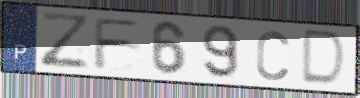6: (150, 20, 190, 76)
9: (201, 24, 241, 80)
C: (254, 28, 291, 82)
D: (298, 27, 349, 89)
F: (92, 16, 144, 71)
Z: (38, 10, 93, 70)
